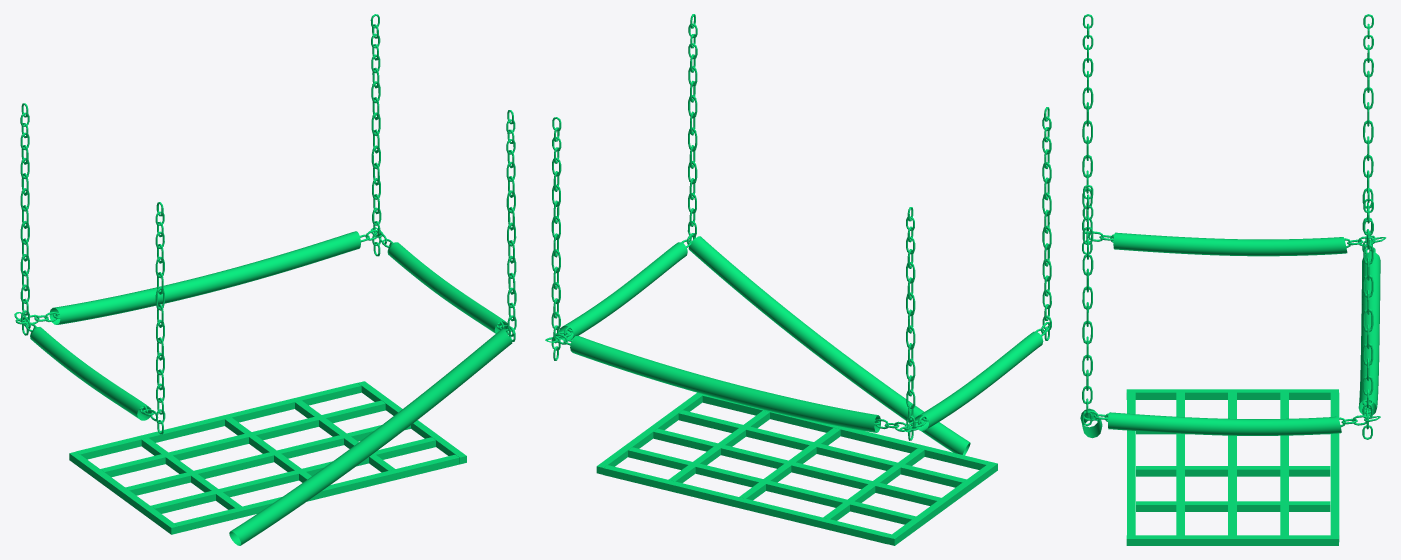
File: Grizzly broken barricade.fbx
3 renders of one model, left to right at view 1: azimuth 30°, elevation 25°; view 2: azimuth 150°, elevation 25°; view 3: azimuth 270°, elevation 25°, orthographic. The views are drawn at different scales.
Parts seen in each view (by area): view 1: Grizzly.002; view 2: Grizzly.002; view 3: Grizzly.002.
Boxes of the visible parts, <box> form: Grizzly.002: <box>14,14,516,545</box>; Grizzly.002: <box>545,14,1051,545</box>; Grizzly.002: <box>1080,14,1386,545</box>.
Size of the model in its own units: 186 by 177 by 128.
